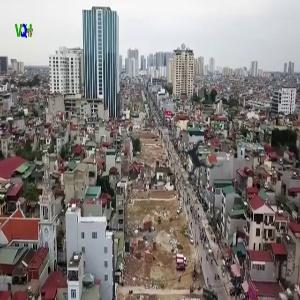drone: (159, 117, 241, 199)
